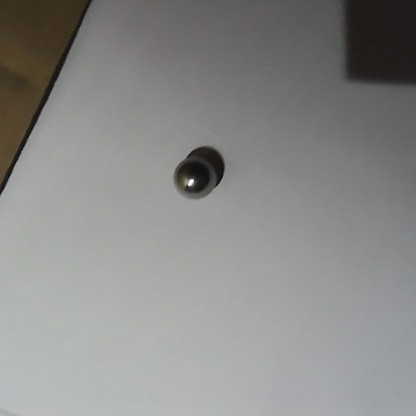ironball: (173, 153, 218, 201)
